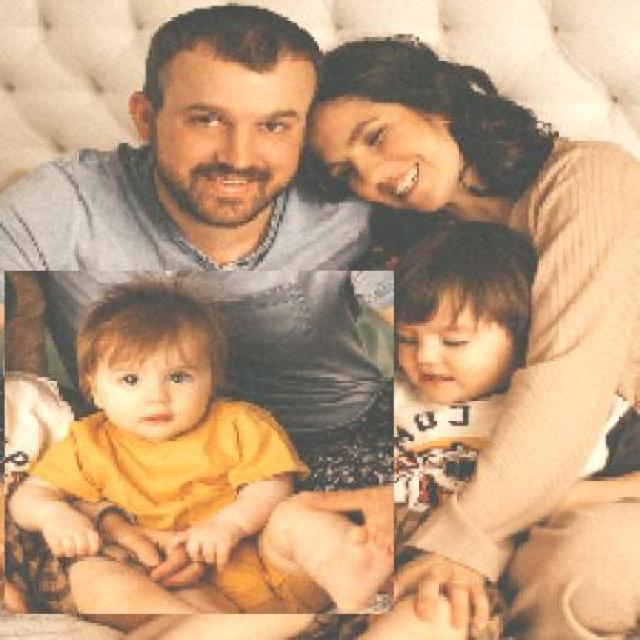child: (320, 214, 640, 637), (3, 271, 394, 615)
